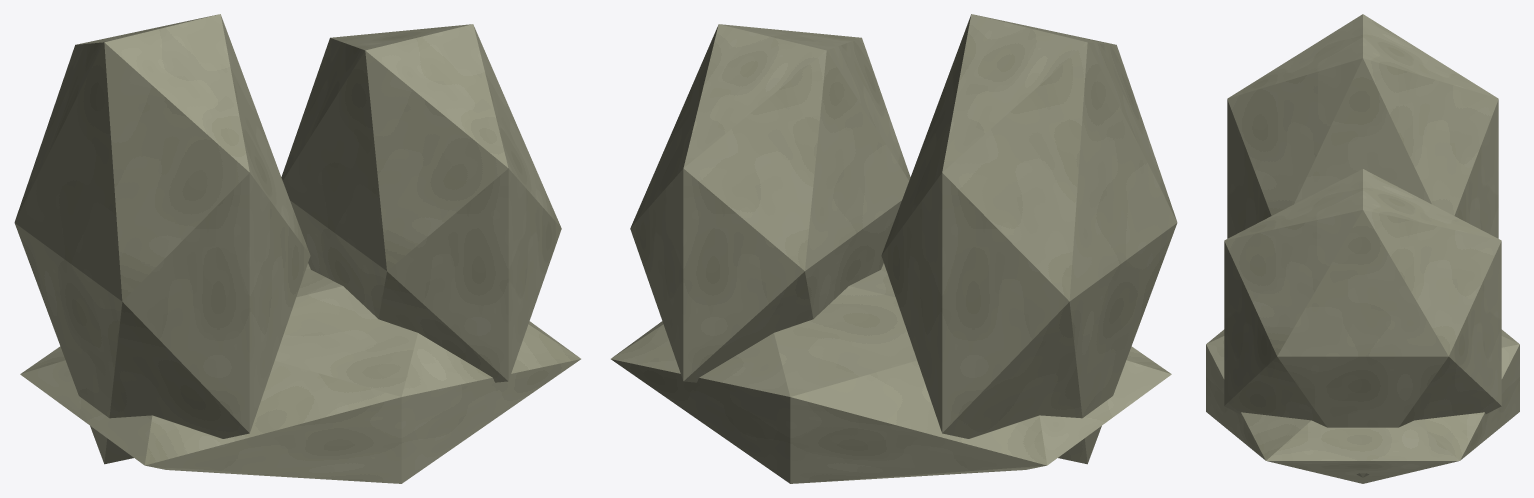
Rendered from pedra-fendida-v02.gltf.
3 views of the same model, side by side, from view 1: azimuth 30°, elevation 25°; view 2: azimuth 150°, elevation 25°; view 3: azimuth 270°, elevation 25° (orthographic). The views are drawn at different scales.
Parts seen in each view (by area): view 1: forma; view 2: forma; view 3: forma.
Boxes of the visible parts, x1,y1,x2,y2 form: forma: (14,14,580,483); forma: (611,14,1177,483); forma: (1206,14,1519,483).
Size of the model in its own units: 1.14 by 1.07 by 0.8847.
Materials: 1 (1 with a texture image).
